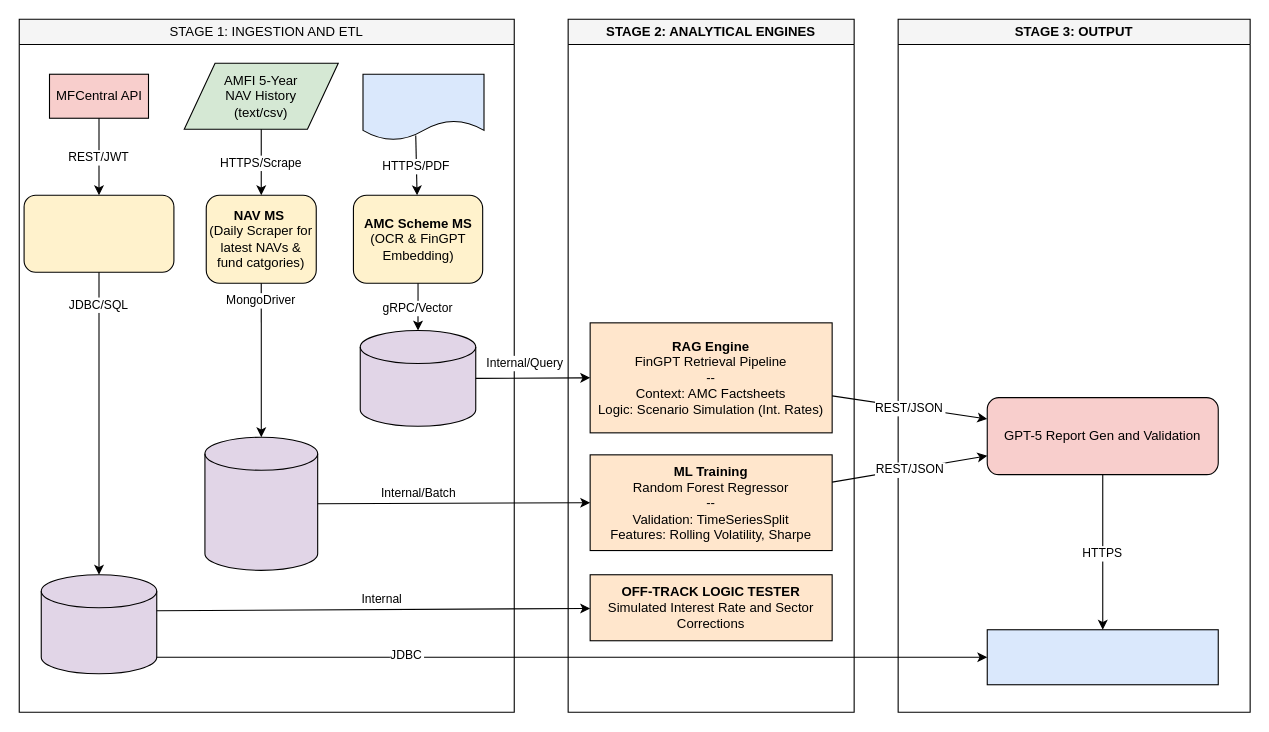
This 1269x732 diagram has some shape labels left out. The box of each missing label's shape, as (x1, y1, x2, y2) in pixels:
Advisor Dashboard / Client Portal: (986, 629, 1218, 685)
Factsheets & SEBI Guidelines: (362, 73, 484, 140)
MF Central Sync MS (Auth: JWT/OTP): (23, 194, 174, 272)
SQL DB (User Folios): (40, 574, 157, 674)
TimescaleDB or MongoDB (NAV History): (204, 436, 318, 570)
Vector Store (Pinecone/FAISS): (359, 329, 476, 426)
